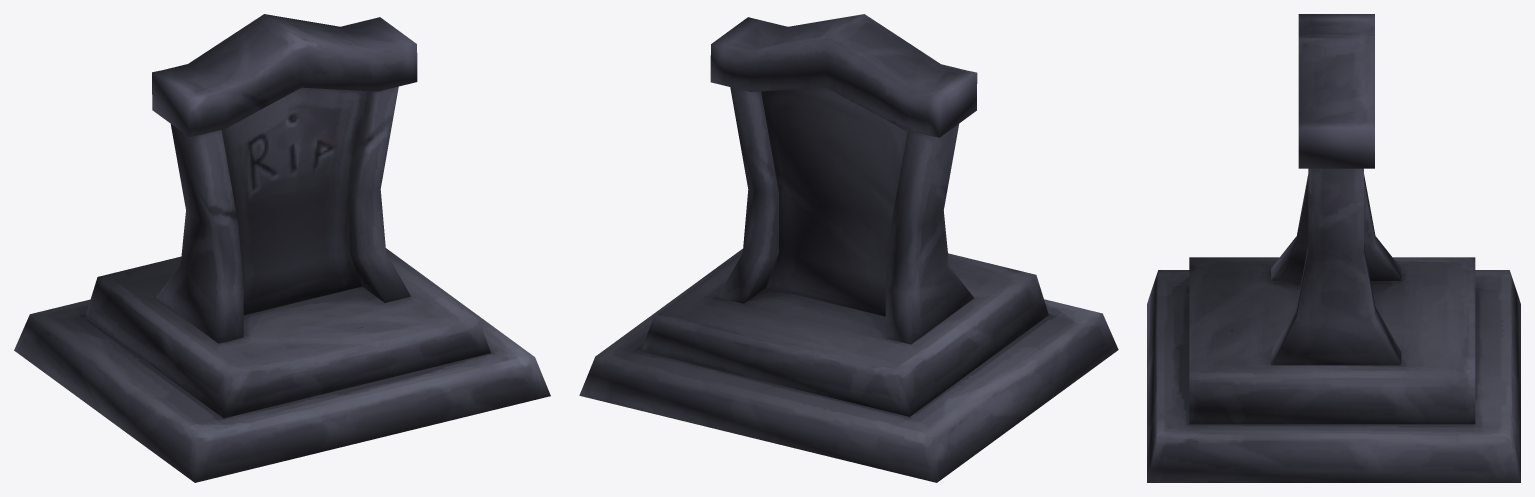
Rendered from tombstone_01.fbx.
The picture shows the model from 3 angles, left to right: view 1: azimuth 30°, elevation 25°; view 2: azimuth 150°, elevation 25°; view 3: azimuth 270°, elevation 25°; orthographic projection. The views are drawn at different scales.
Visible parts, largest first — view 1: tombstone_01; view 2: tombstone_01; view 3: tombstone_01.
Part boxes in pixels (x1=…): tombstone_01: x1=14, y1=14, x2=550, y2=482; tombstone_01: x1=579, y1=14, x2=1118, y2=482; tombstone_01: x1=1147, y1=14, x2=1520, y2=482.
Size of the model in its own units: 228 by 211 by 201.
